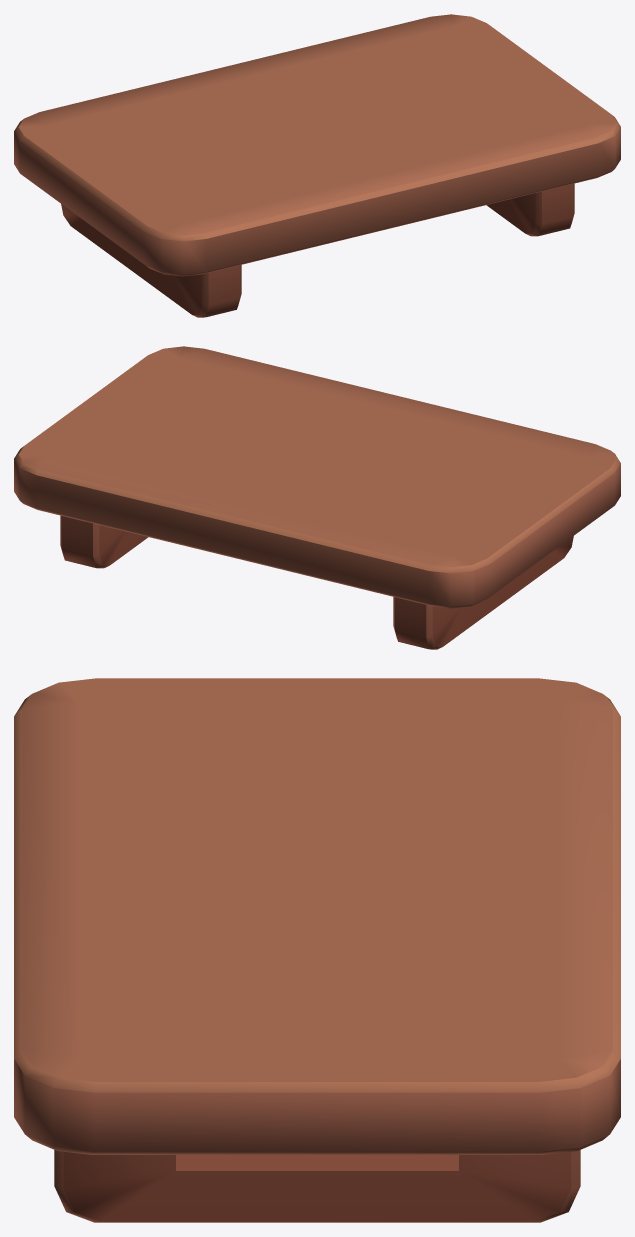
Rendered from table_low.glb.
3 views of the same model, one above another, from view 1: azimuth 30°, elevation 25°; view 2: azimuth 150°, elevation 25°; view 3: azimuth 270°, elevation 25° (orthographic). The views are drawn at different scales.
Parts seen in each view (by area): view 1: table_low; view 2: table_low; view 3: table_low.
Part boxes in pixels (x1,y1,x2,y2): table_low: [14, 14, 620, 317]; table_low: [14, 346, 620, 649]; table_low: [14, 678, 620, 1222].
Size of the model in its own units: 2.4 by 0.5 by 1.5.
1 material, 1 textured.
